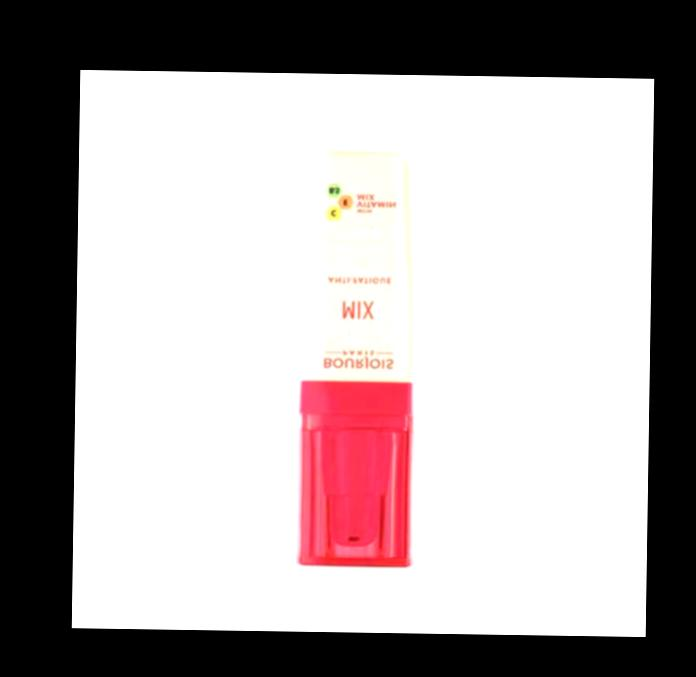cosmetic: (291, 121, 424, 566)
